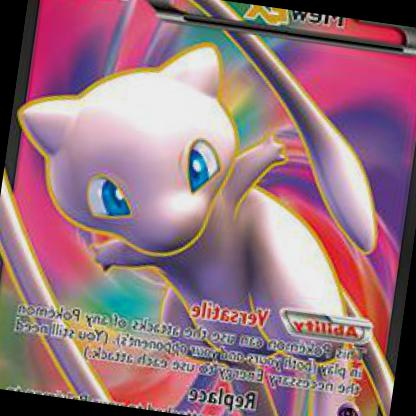Mew: (5, 0, 415, 402)
